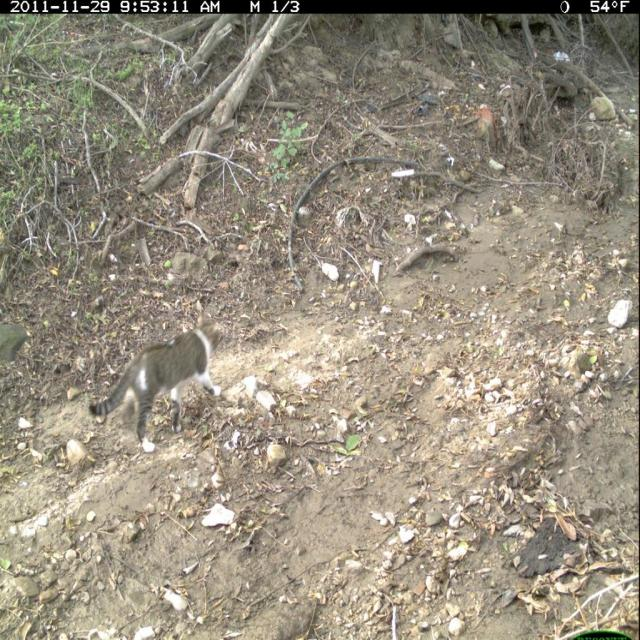cat: (86, 306, 229, 458)
